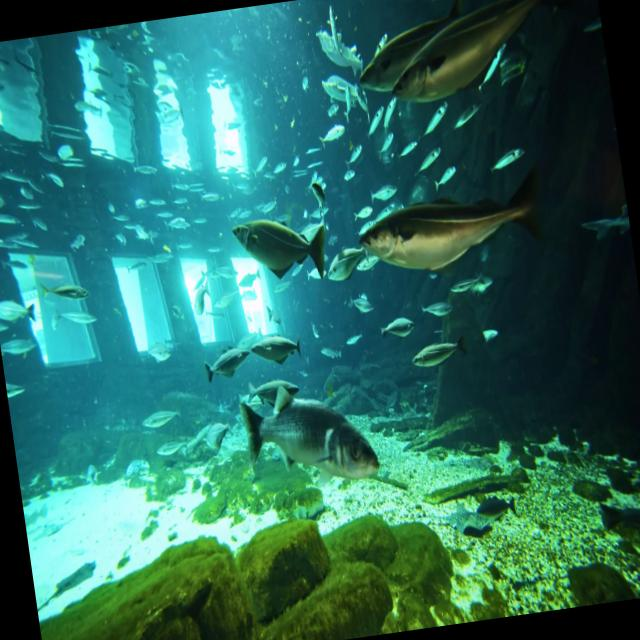fish: (351, 156, 552, 288), (377, 0, 585, 120), (238, 380, 379, 494), (347, 0, 466, 91), (224, 198, 334, 284), (402, 320, 474, 378), (195, 336, 256, 402), (312, 64, 369, 114), (244, 367, 302, 416), (38, 270, 96, 318), (580, 188, 631, 240), (254, 326, 302, 378), (484, 134, 534, 182), (447, 259, 499, 303), (0, 284, 48, 327), (412, 292, 463, 328), (345, 282, 383, 330), (377, 306, 421, 346), (415, 94, 453, 138), (310, 118, 352, 156), (0, 328, 40, 364), (450, 91, 483, 132), (365, 100, 394, 138), (396, 134, 430, 166), (372, 123, 399, 159), (4, 372, 32, 404)
